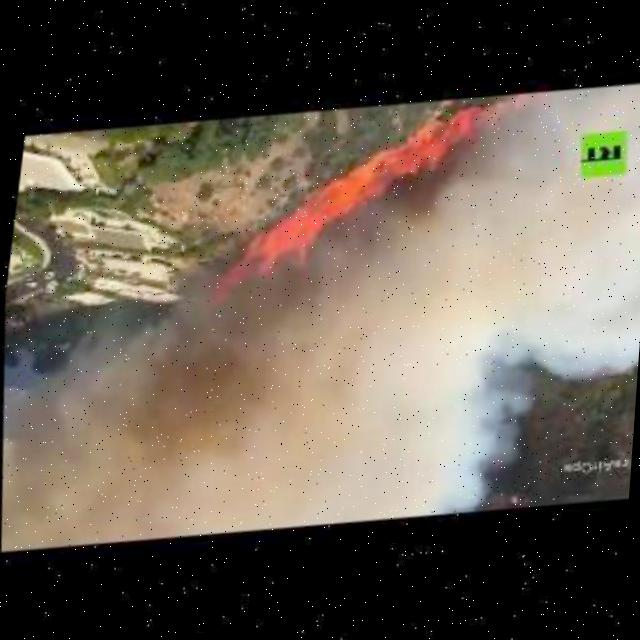fire: (219, 90, 509, 294)
